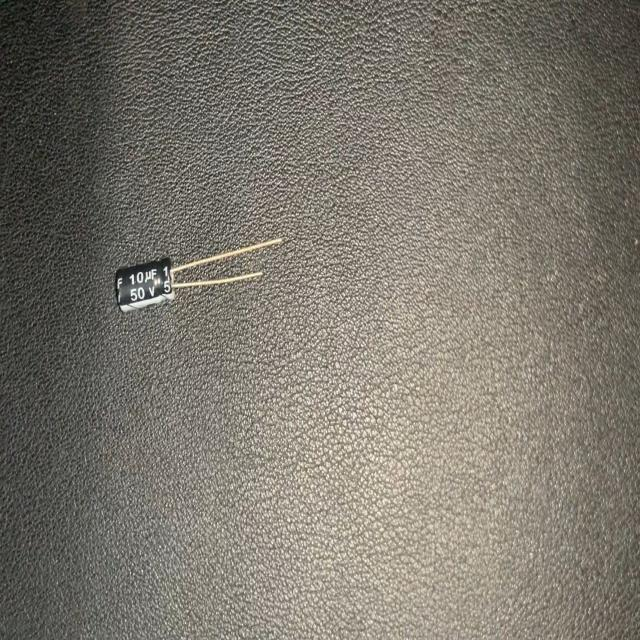capacitor: (116, 237, 282, 312)
